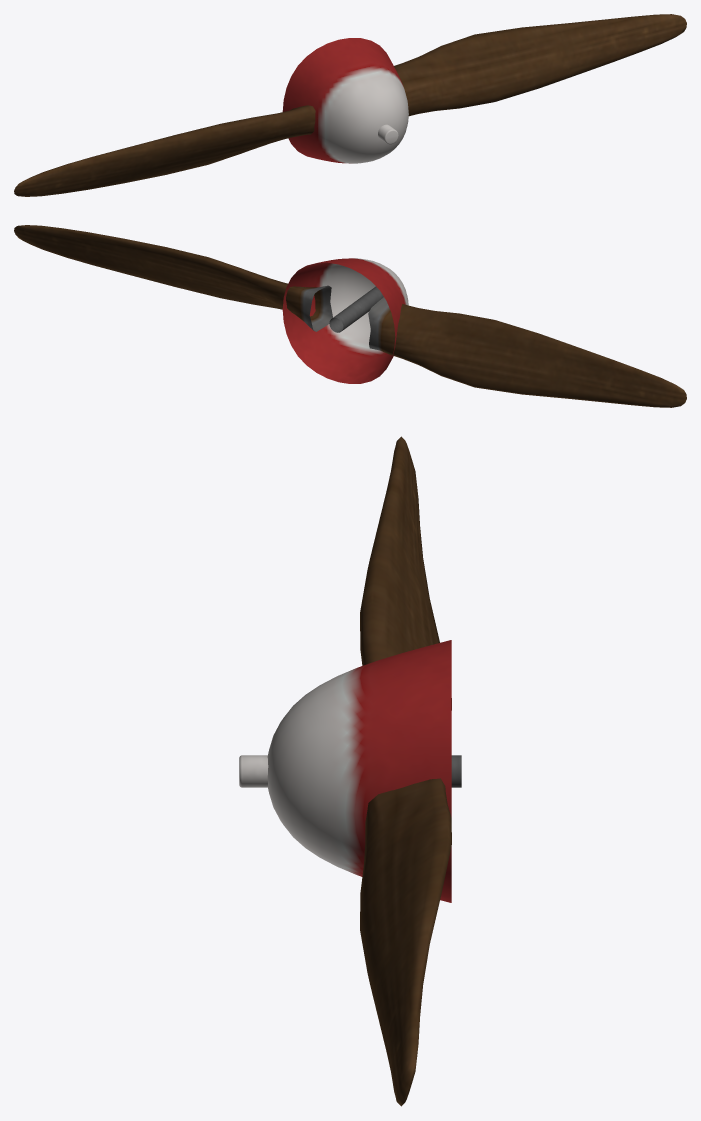
File: propeller.obj
3 views of the same model, one above another, from view 1: azimuth 30°, elevation 25°; view 2: azimuth 150°, elevation 25°; view 3: azimuth 270°, elevation 25° (orthographic). The views are drawn at different scales.
Visible parts, largest first — view 1: uploads_files_2532780_Gamecock.001; view 2: uploads_files_2532780_Gamecock.001; view 3: uploads_files_2532780_Gamecock.001.
Part boxes in pixels (left/top/right/bottom): uploads_files_2532780_Gamecock.001: left=14, top=14, right=686, bottom=196; uploads_files_2532780_Gamecock.001: left=14, top=225, right=686, bottom=407; uploads_files_2532780_Gamecock.001: left=239, top=436, right=461, bottom=1106.
Bounding box in the file's own units: 2.86 × 0.4791 × 0.41.
